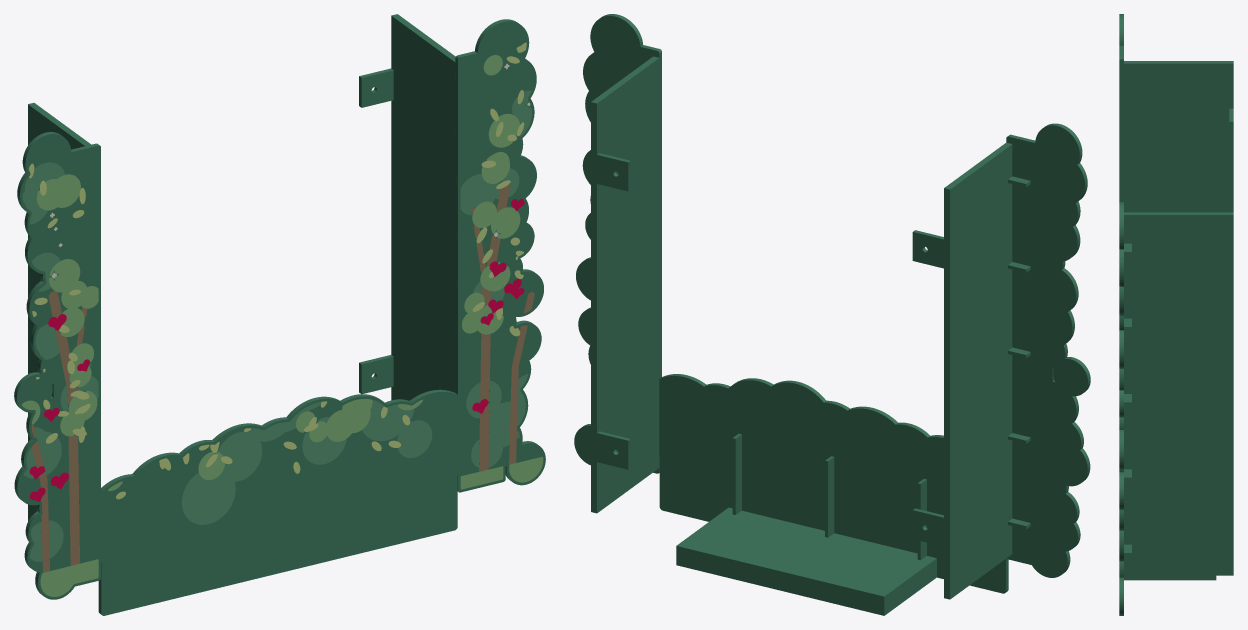
The model's file is parts.glb.
3 views of the same model, side by side, from view 1: azimuth 30°, elevation 25°; view 2: azimuth 150°, elevation 25°; view 3: azimuth 270°, elevation 25° (orthographic). The views are drawn at different scales.
Parts seen in each view (by area): view 1: wing_right__base, topper__base, wing_left__base, topper__forest, wing_left__leaf, wing_right__leaf, wing_left__forest, wing_right__forest, wing_right__bark, wing_left__bark, topper__leaf, wing_left__lime (+4 smaller); view 2: wing_left__base, topper__base, wing_right__base; view 3: wing_right__base, wing_left__base, topper__base.
Part boxes in pixels (x1,y1,x2,y2): wing_right__base: (359,14,545,492); topper__base: (98,389,457,615); wing_left__base: (14,103,100,599); topper__forest: (182,400,432,524); wing_left__leaf: (21,174,98,596); wing_right__leaf: (460,55,543,489); wing_left__forest: (22,162,98,561); wing_right__forest: (460,90,531,467); wing_right__bark: (471,184,534,471); wing_left__bark: (31,291,87,572); topper__leaf: (108,399,422,490); wing_left__lime: (29,163,90,443); wing_left__base: (912,123,1090,599); topper__base: (659,374,1021,615); wing_right__base: (574,14,661,513); wing_right__base: (1119,202,1233,615); wing_left__base: (1119,14,1233,212); topper__base: (1124,575,1216,580).
Size of the model in its own units: 333 by 299 by 73.01.
